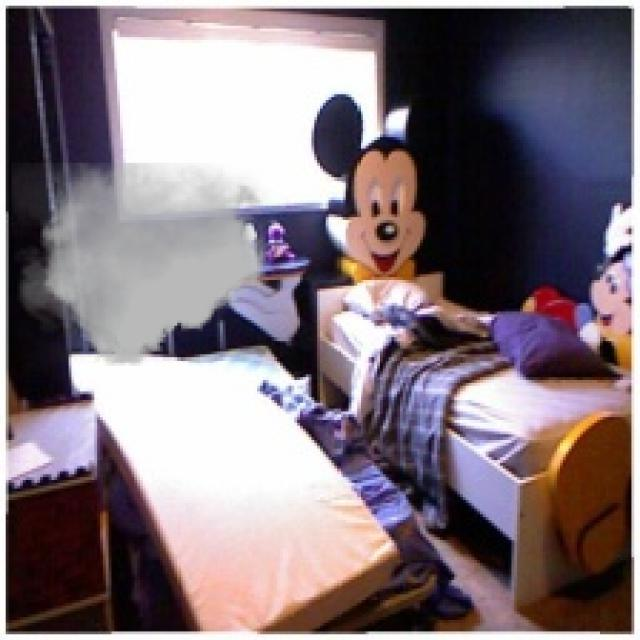Smoke: (12, 163, 272, 366)
